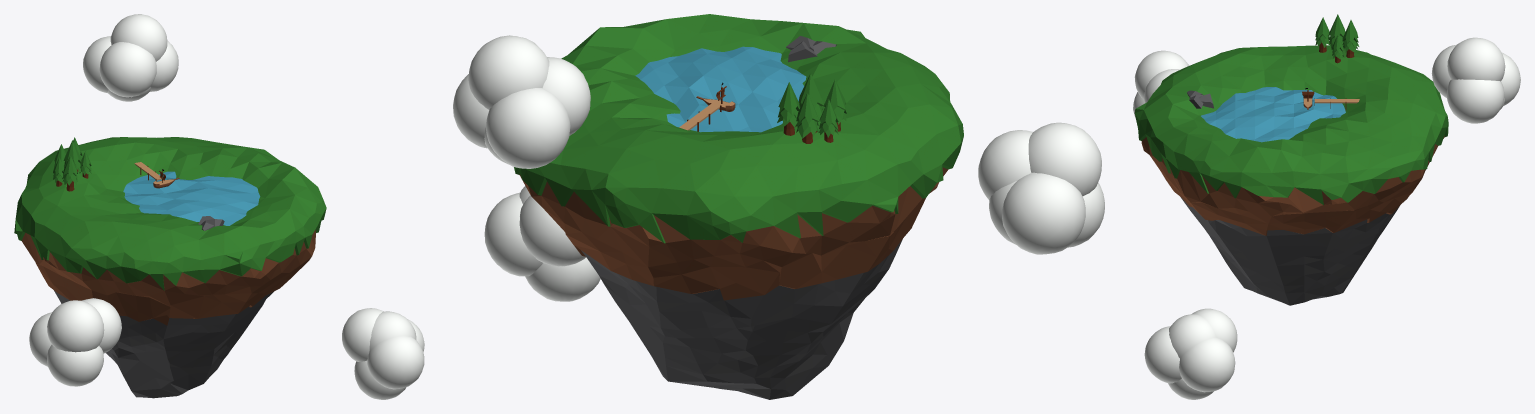
File: low-poly_floating_island-transformed.glb
3 renders of one model, left to right at view 1: azimuth 30°, elevation 25°; view 2: azimuth 150°, elevation 25°; view 3: azimuth 270°, elevation 25°, orthographic. The views are drawn at different scales.
Visible parts, largest first — view 1: Island, Clouds__0; view 2: Island, Clouds__0; view 3: Island, Clouds__0.
Part boxes in pixels (x1=…): Island: x1=14, y1=137, x2=326, y2=398; Clouds__0: x1=29, y1=14, x2=424, y2=399; Island: x1=514, y1=14, x2=963, y2=399; Clouds__0: x1=453, y1=35, x2=1104, y2=301; Island: x1=1134, y1=14, x2=1448, y2=305; Clouds__0: x1=1133, y1=37, x2=1520, y2=399.
Size of the model in its own units: 43.56 by 32.07 by 36.82.
Materials: 2 (2 with a texture image).
